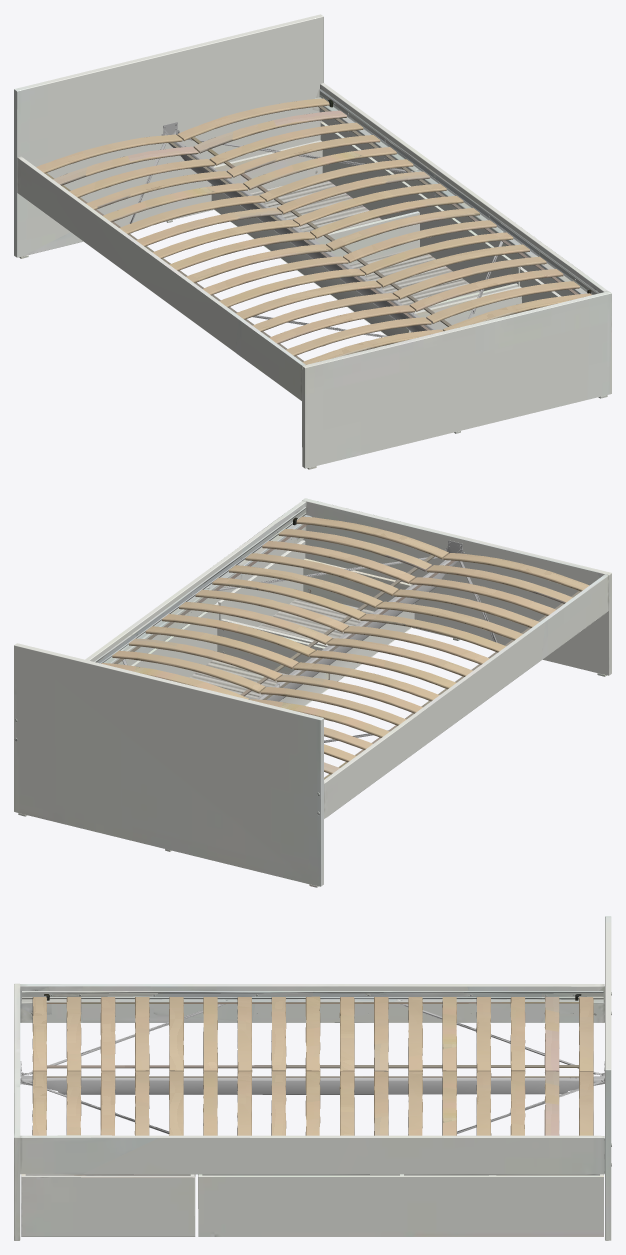
Rendered from 31 - VIHALS - 單人加大床框附2收納盒, 白色Luröy, 120x200 公分 IKEA 線上購物.glb.
3 views of the same model, one above another, from view 1: azimuth 30°, elevation 25°; view 2: azimuth 150°, elevation 25°; view 3: azimuth 270°, elevation 25° (orthographic). The views are drawn at different scales.
Visible parts, largest first — view 1: base_bedsize; view 2: base_bedsize; view 3: base_bedsize.
Part boxes in pixels (bbox=[...]): base_bedsize: bbox=[14, 14, 611, 469]; base_bedsize: bbox=[14, 498, 611, 887]; base_bedsize: bbox=[14, 916, 611, 1240].
Bounding box in the file's own units: 1.26 × 0.6603 × 2.07.
4 materials, 3 textured.
